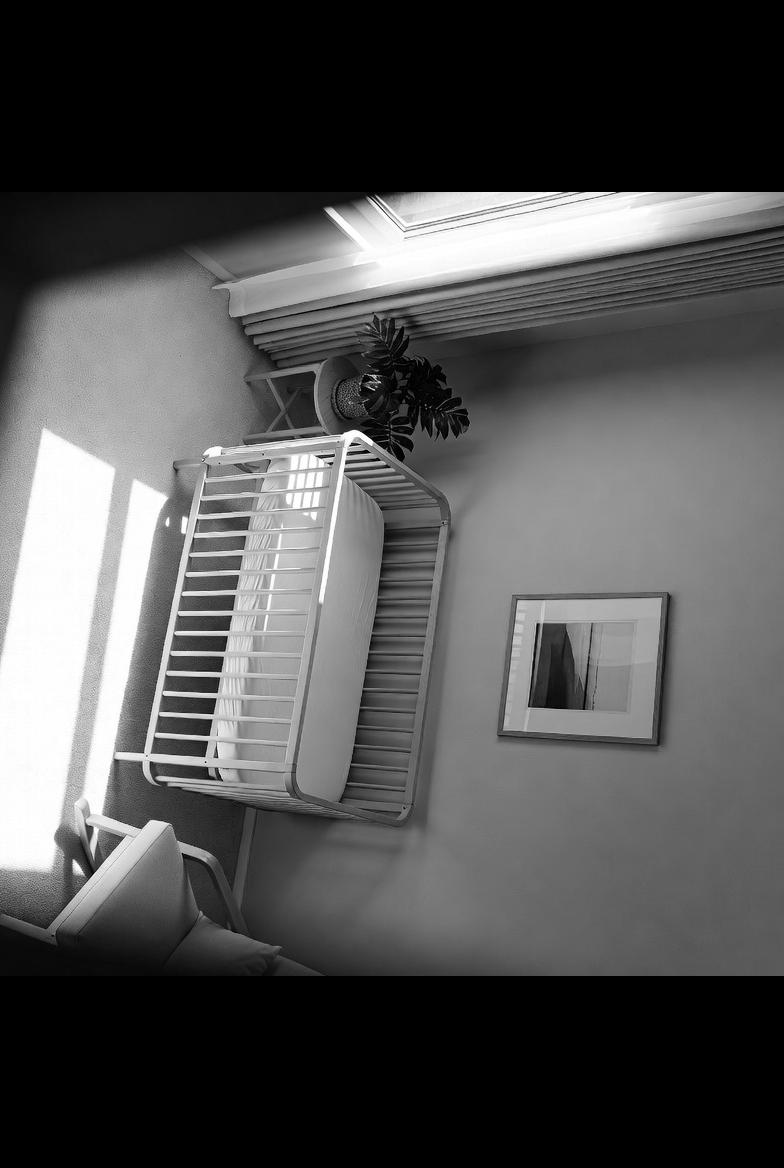crib: (114, 432, 449, 826)
